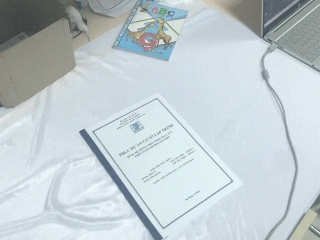book: (109, 1, 190, 62)
box: (1, 1, 75, 109)
